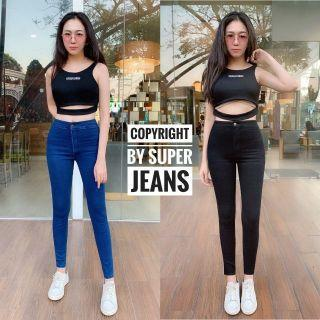Tshirt: (39, 55, 110, 125), (201, 61, 269, 119)
pants: (37, 122, 126, 279), (203, 115, 267, 281)
